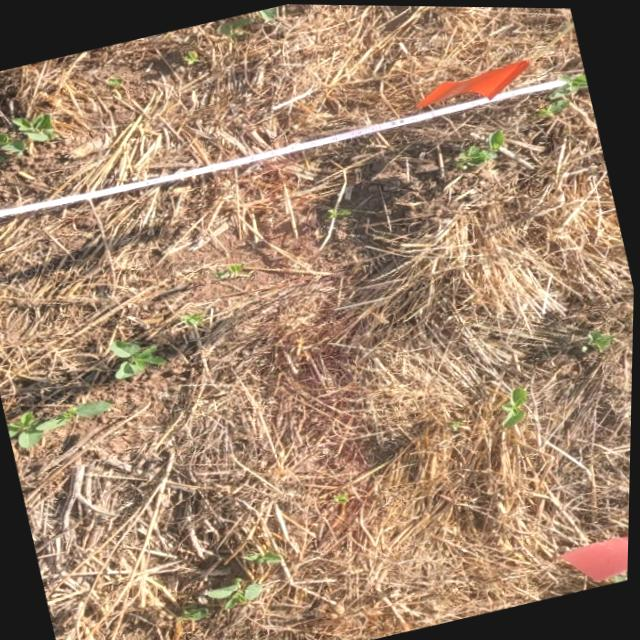soy_plant: (9, 400, 112, 446), (0, 112, 55, 160), (110, 338, 166, 378), (456, 127, 505, 167), (542, 71, 588, 113), (207, 576, 266, 607), (504, 385, 529, 424), (218, 16, 250, 36), (215, 260, 250, 277), (181, 602, 212, 618), (507, 136, 544, 149), (590, 328, 615, 347), (254, 4, 277, 18), (329, 205, 351, 218), (182, 312, 203, 325), (250, 552, 281, 560), (184, 49, 200, 62), (336, 490, 349, 500)
